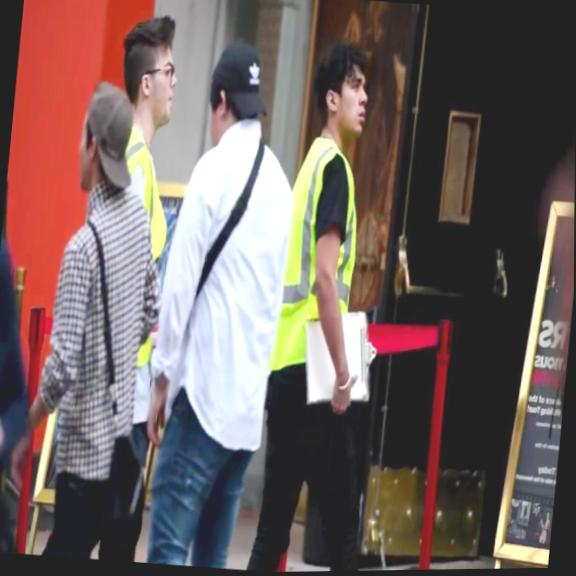safety_vest: (271, 136, 369, 383), (107, 122, 180, 370)
